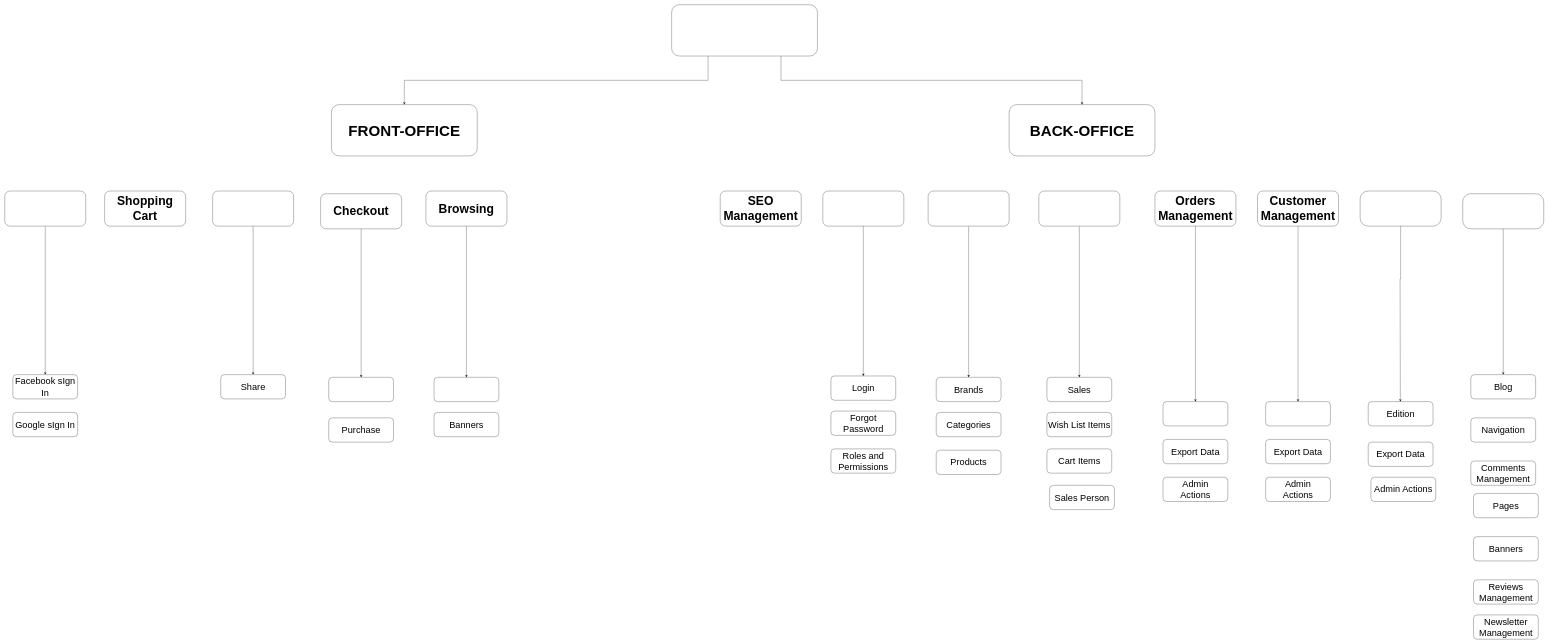
Image size: 1548x644. Some labels were removed from this diagram. The shapes that lost their labels are listed below. From the top down, each one's box as (x1, y1, x2, y2) in pixels, then its label:
(671, 4, 817, 56): WALTCOMMERCE
(4, 191, 86, 226): Integrated Access
(212, 191, 294, 226): Wish Lists
(823, 191, 904, 226): Access
(928, 191, 1009, 226): Catalog Management
(1039, 191, 1120, 226): Reports
(1360, 191, 1441, 226): Blog Management
(1462, 193, 1544, 229): Content Management
(328, 377, 394, 402): Address
(434, 377, 499, 402): Filters
(1163, 401, 1228, 426): Assignment
(1265, 401, 1330, 426): History Behavior
